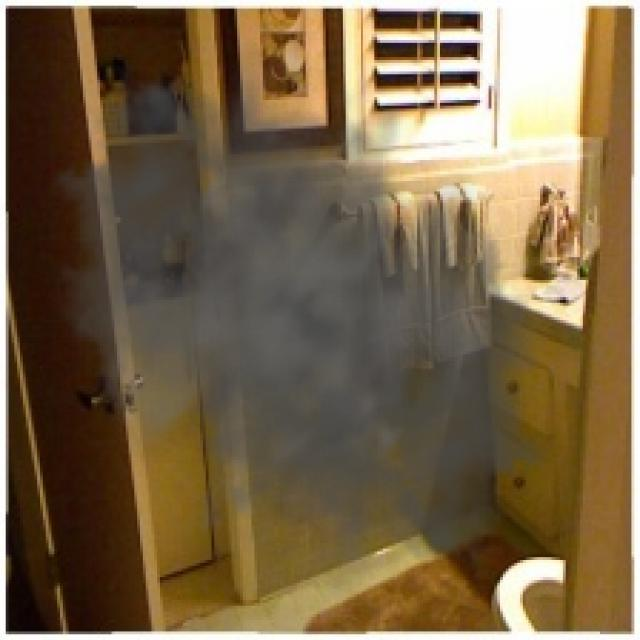Smoke: (17, 37, 583, 600)
